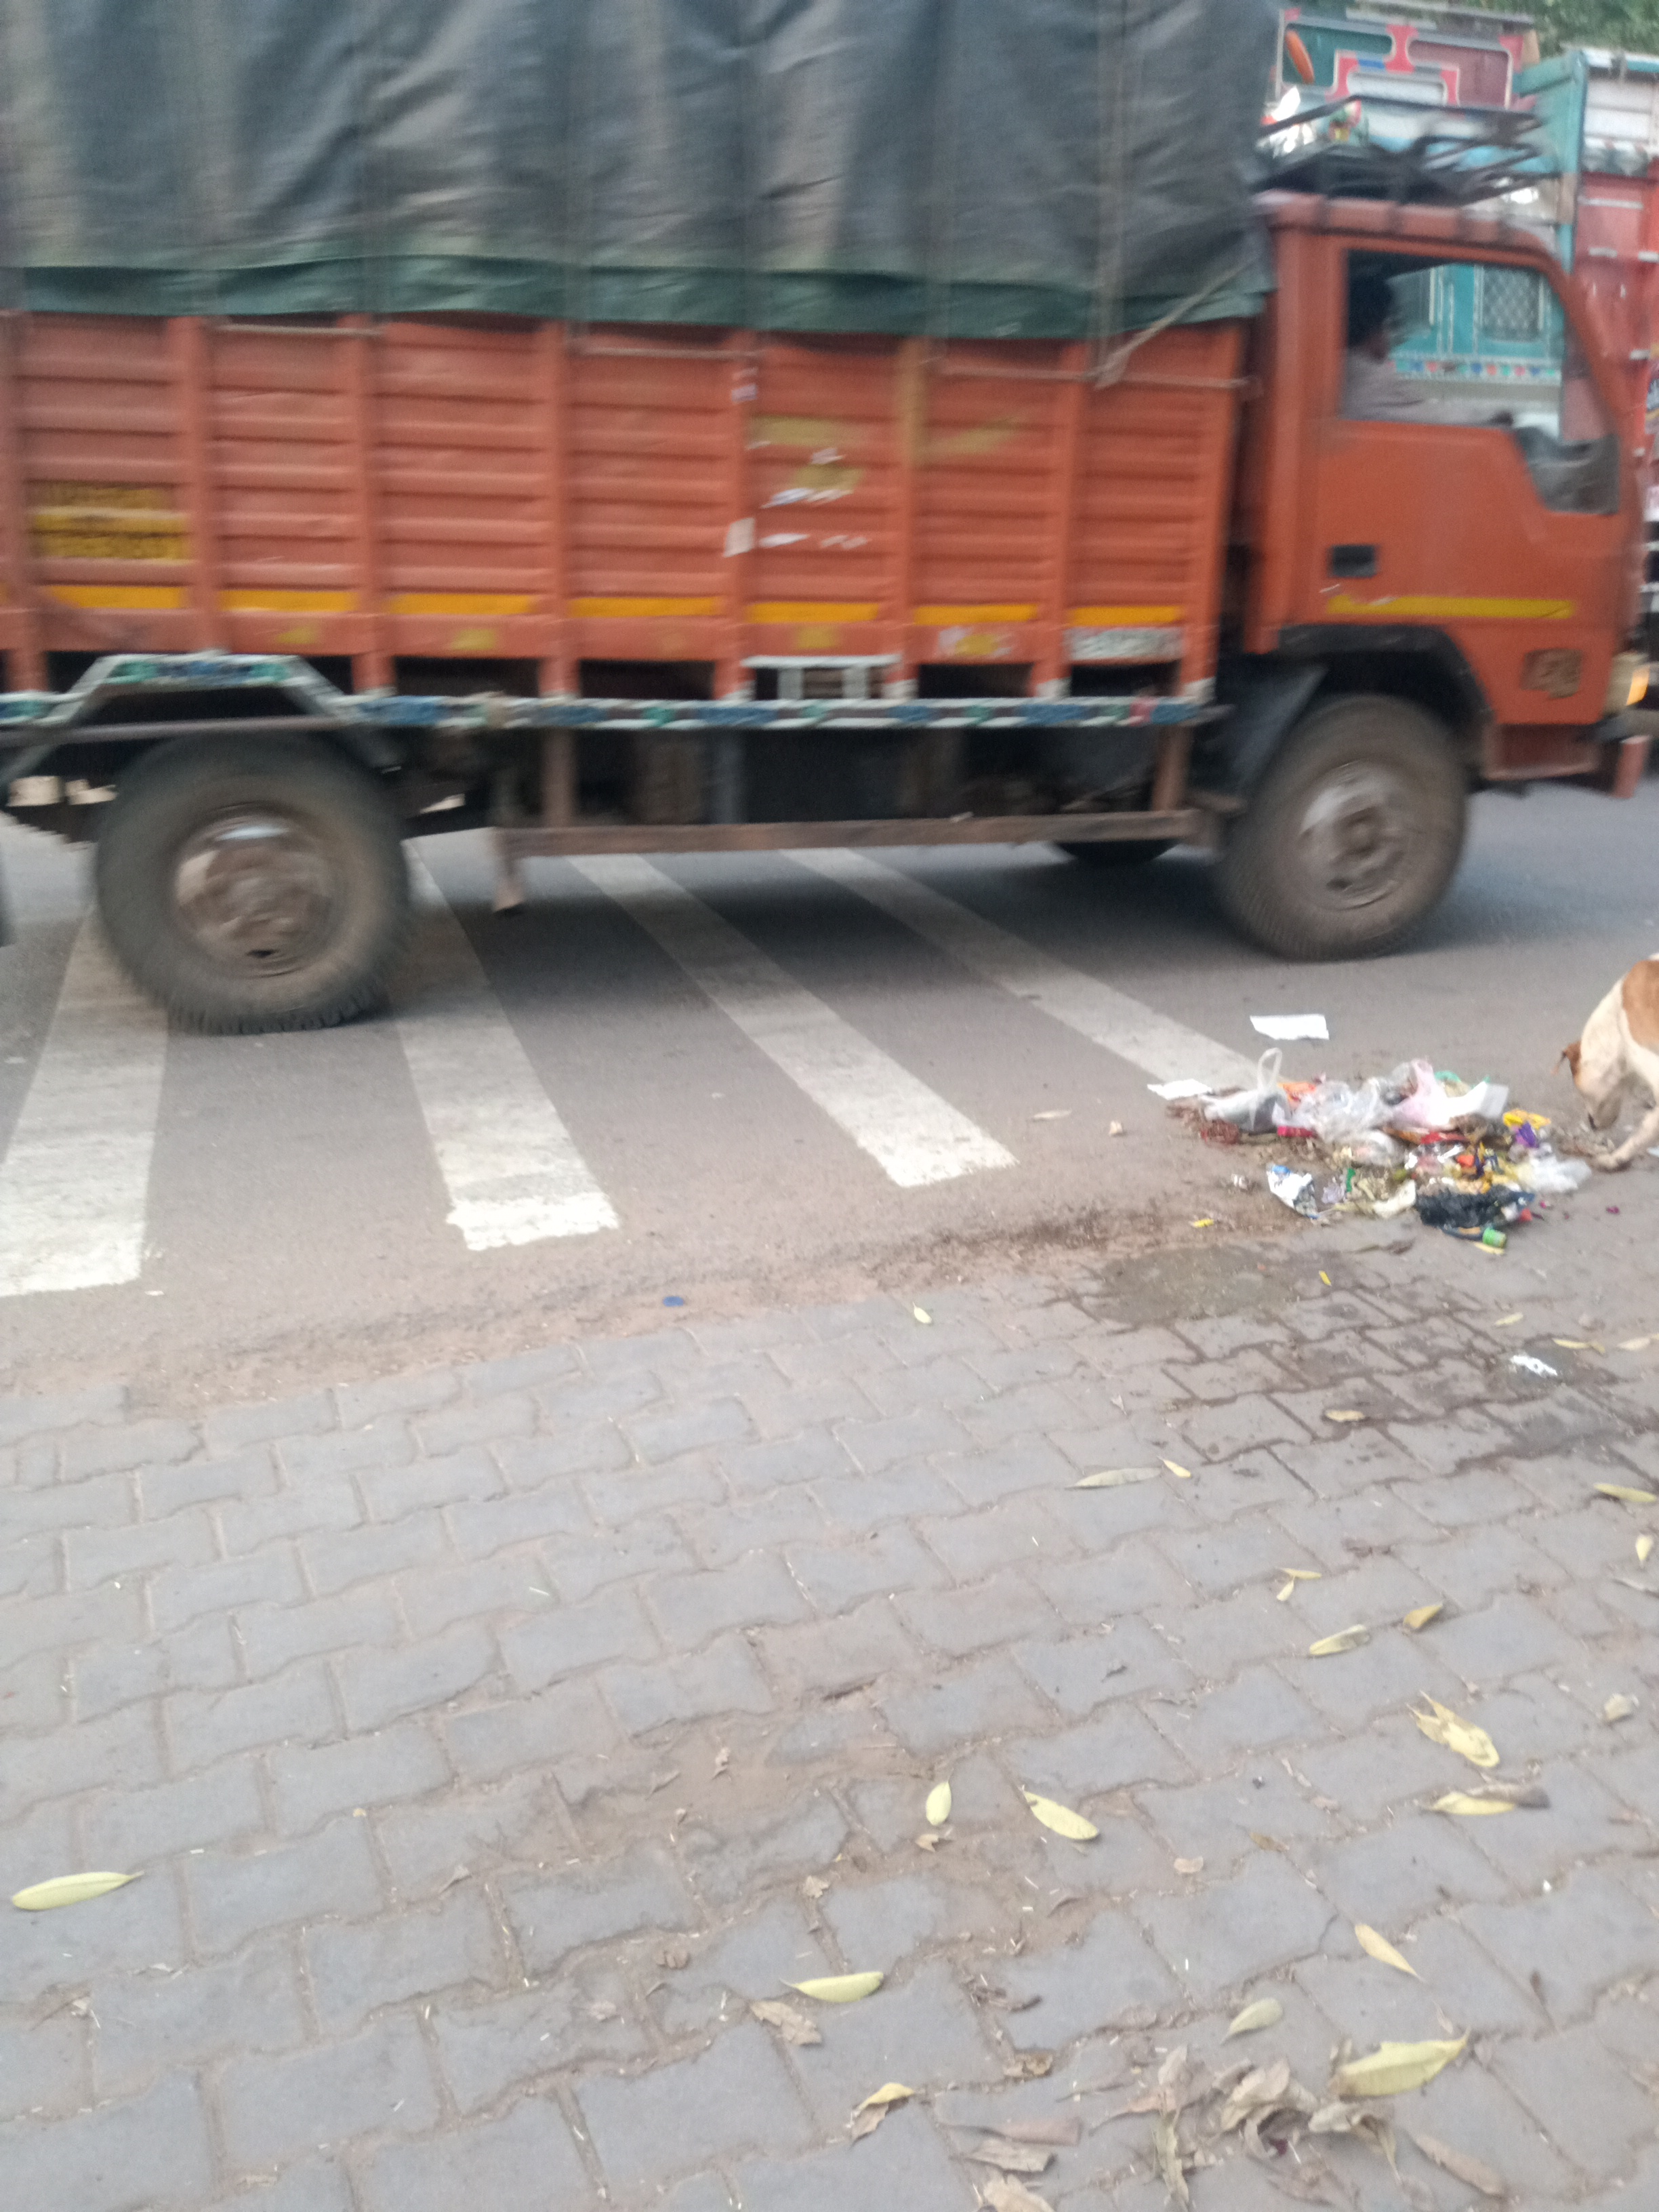truck: (0, 0, 1659, 1042), (1251, 0, 1659, 627)
